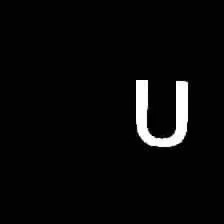LTR_U: (127, 74, 191, 151)
